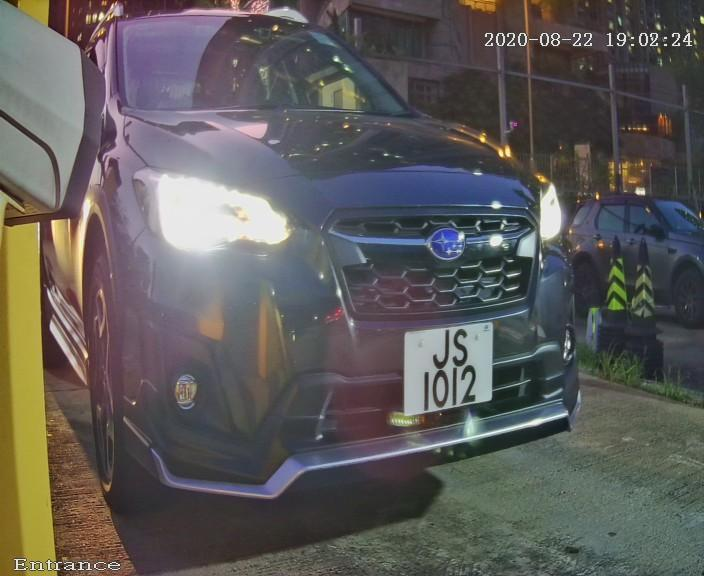Car: (16, 8, 635, 541)
License Plate: (397, 309, 503, 430)
